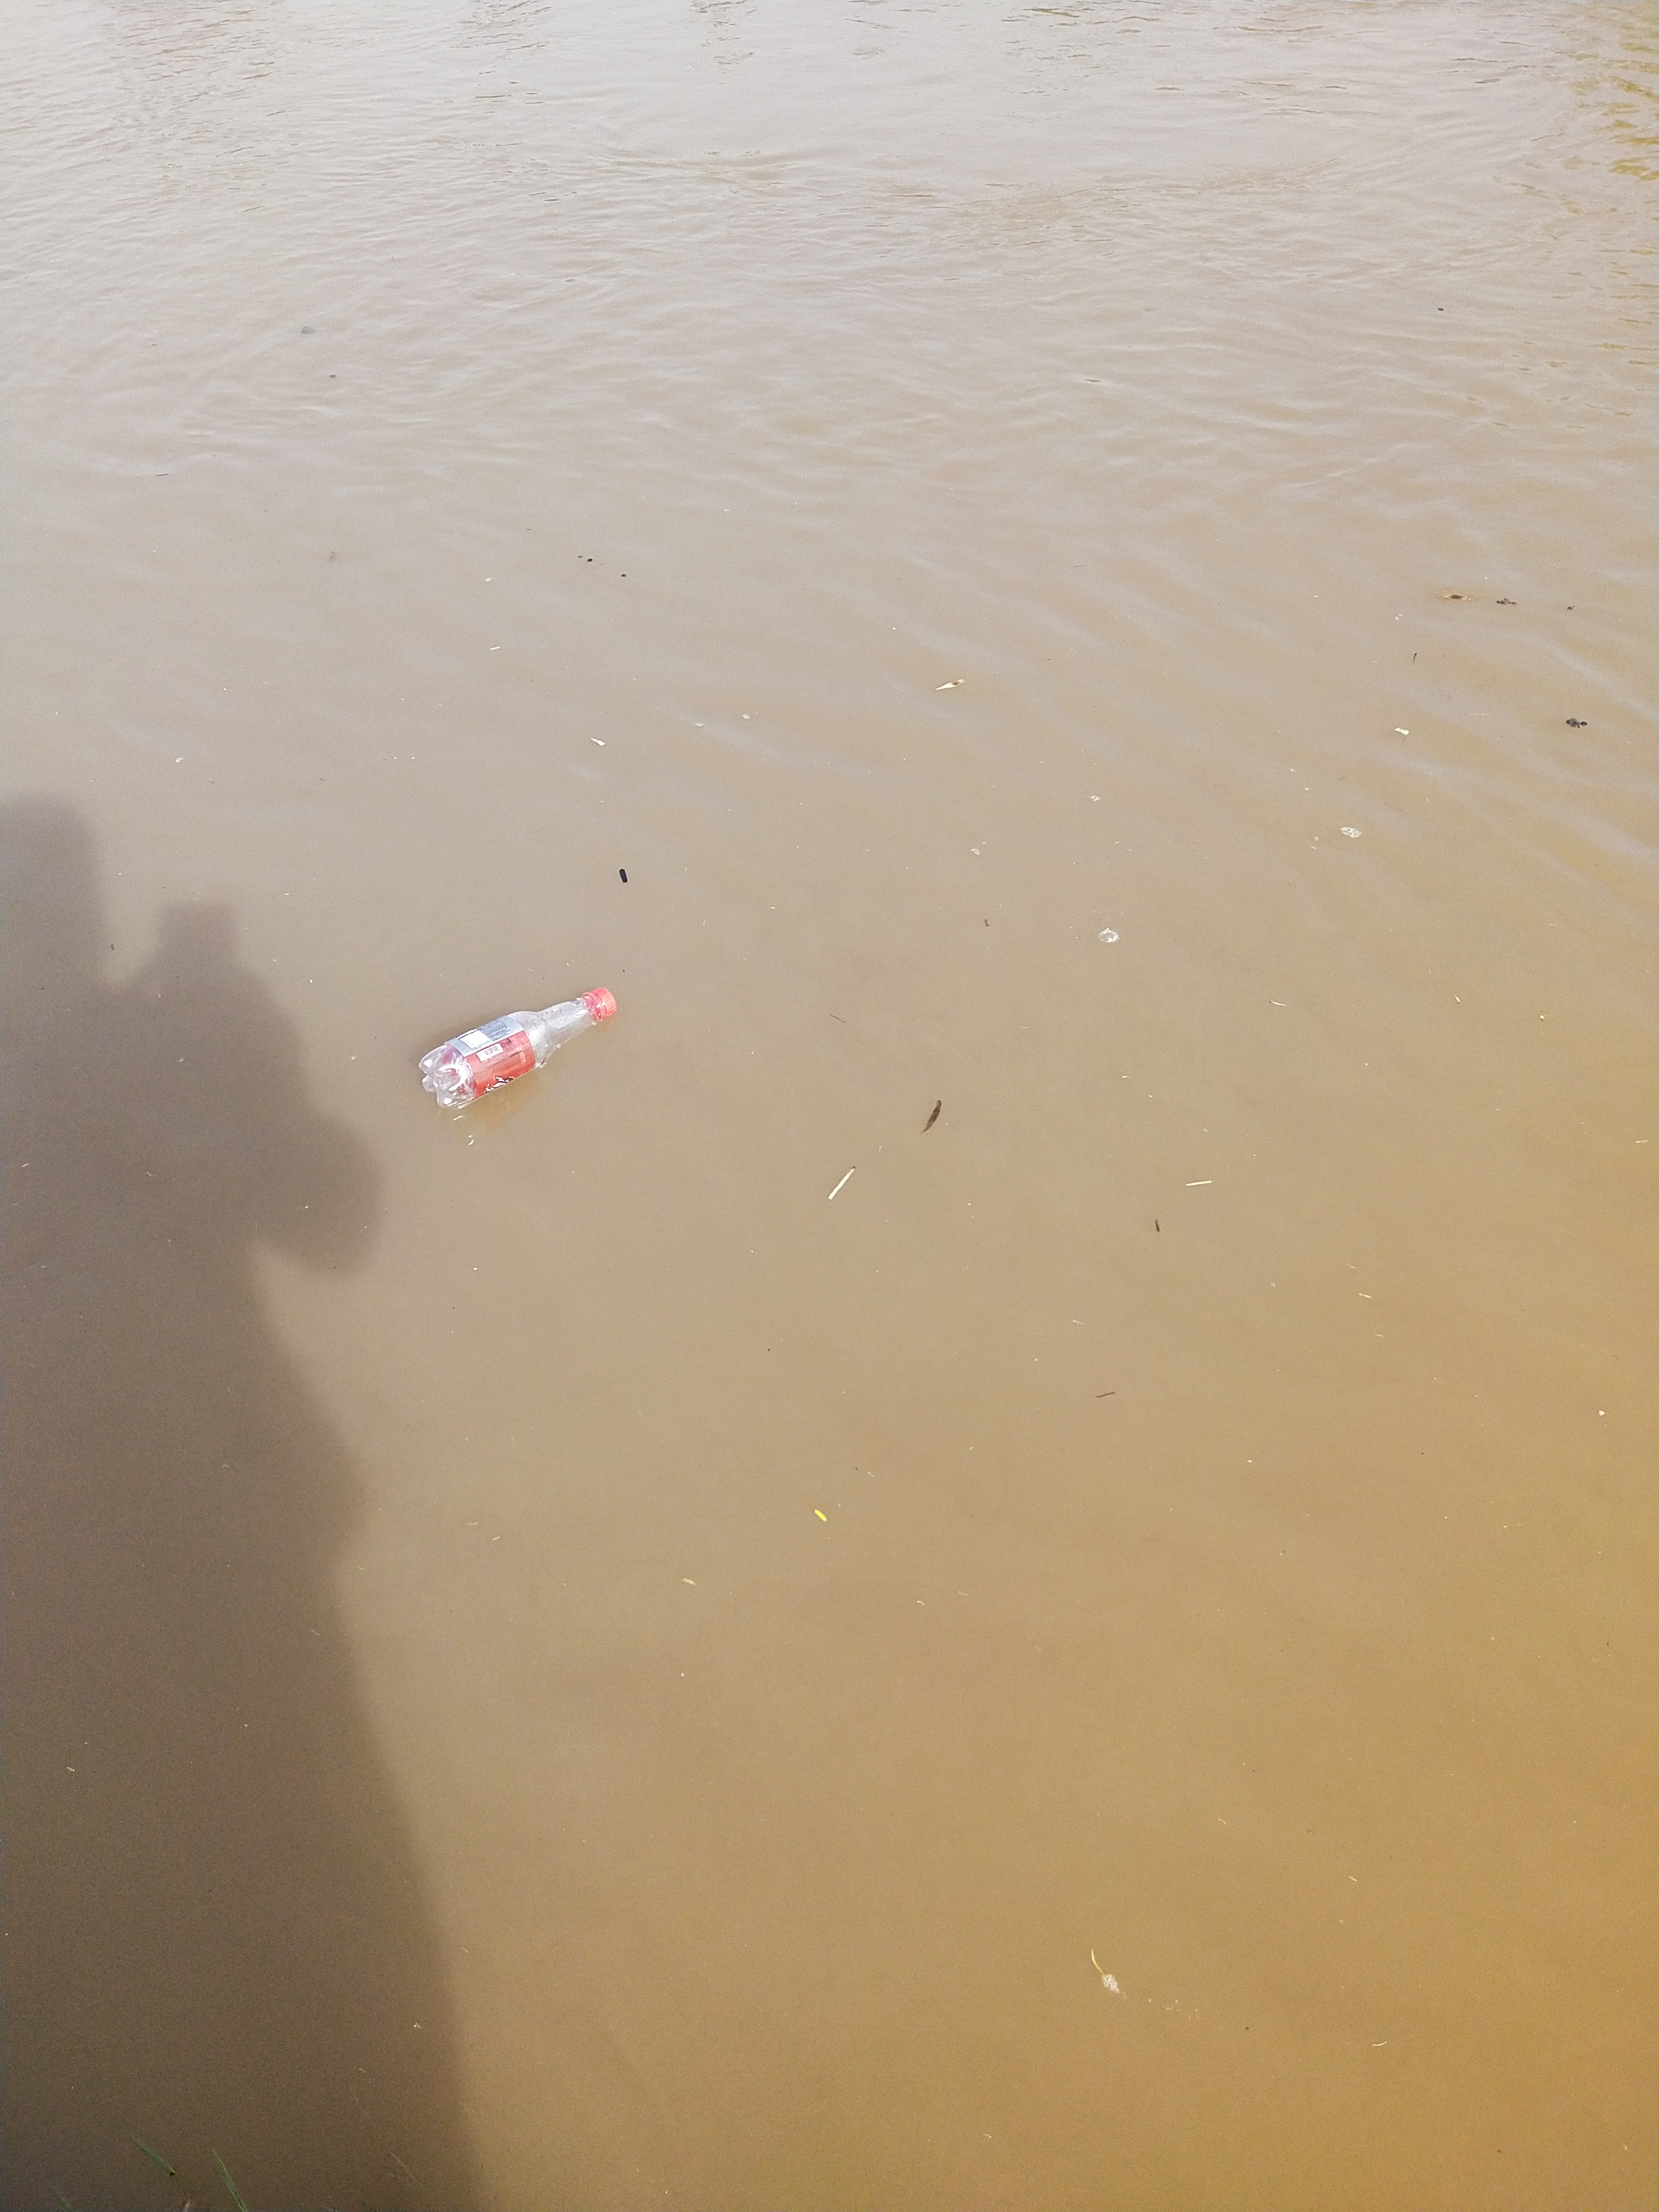Plastic Bottle: (418, 989, 619, 1108)
